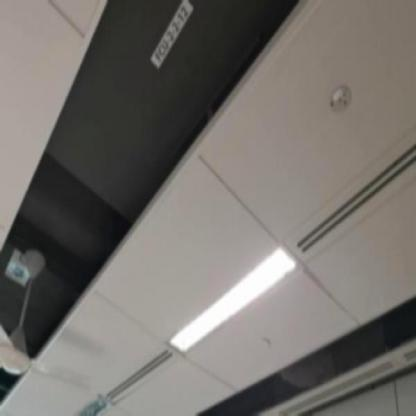light_on: (166, 231, 304, 362)
